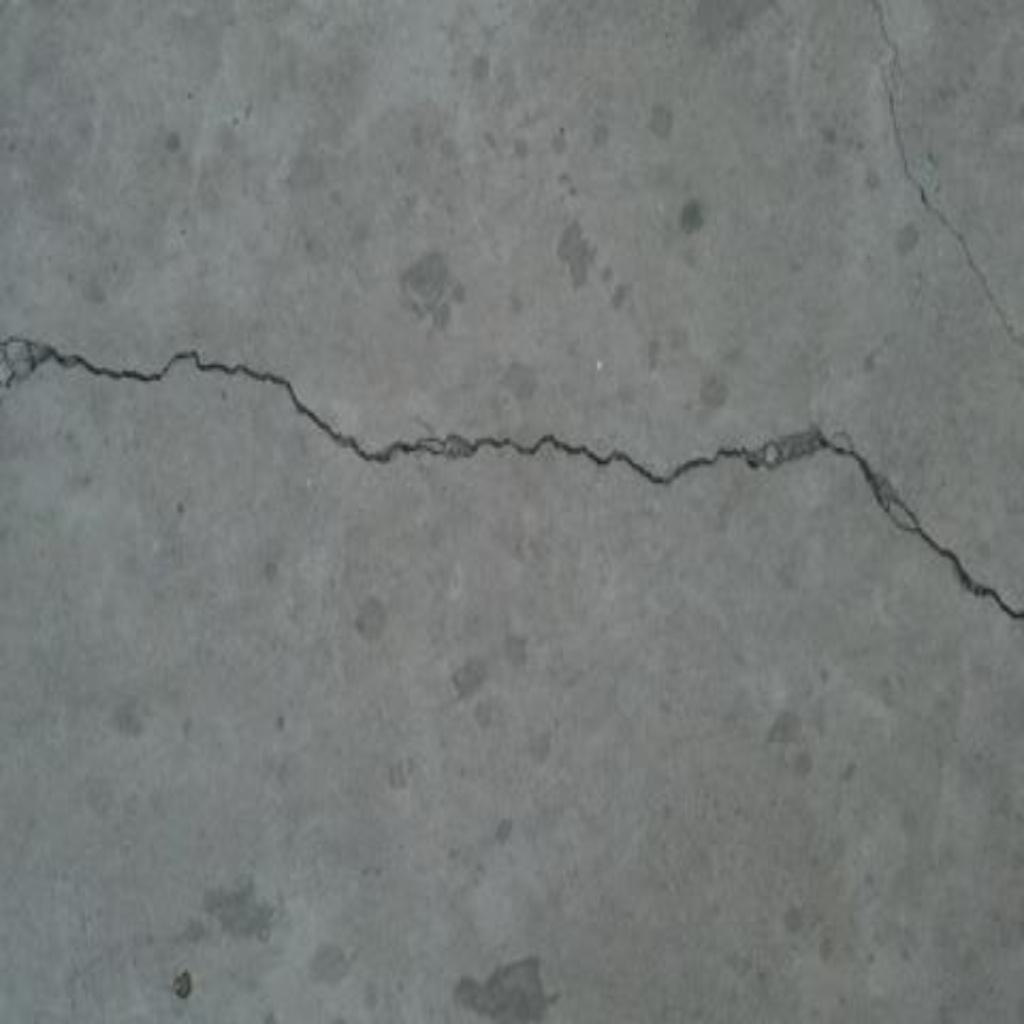Crack: (1, 334, 1024, 621), (870, 1, 1024, 349)
